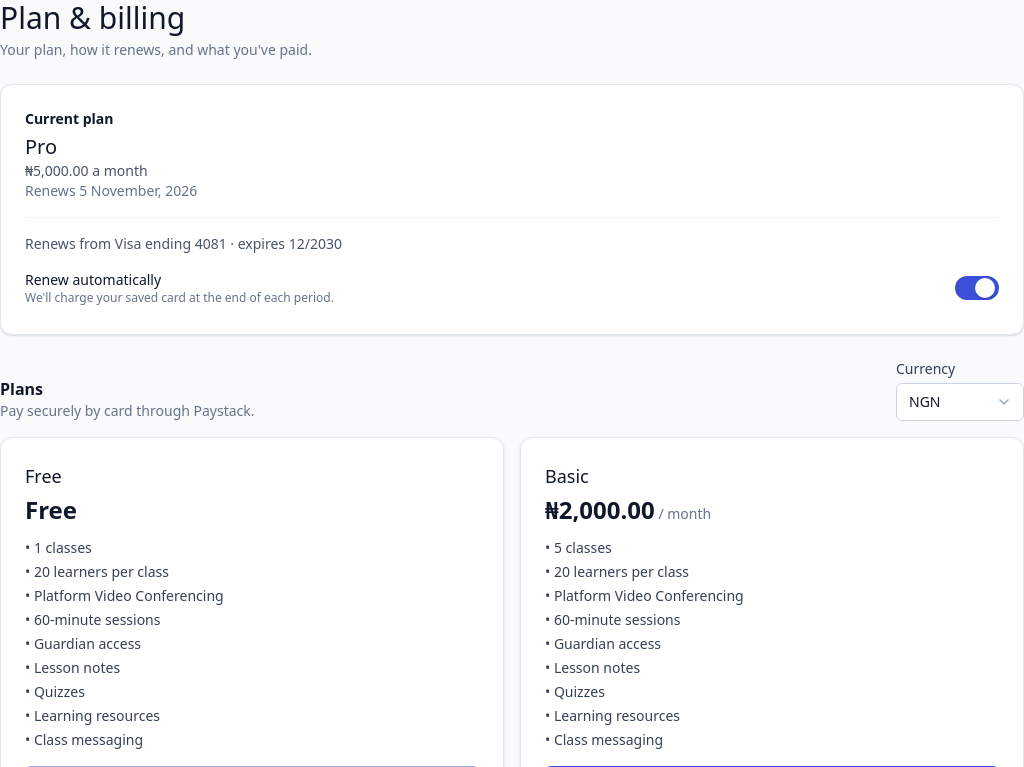
Test: PlanBillingPage › asks before turning auto-renewal off
The image size is (1024, 767).
Click the switch named "Renew automatically" at [977, 288], box [949,266,1005,310]
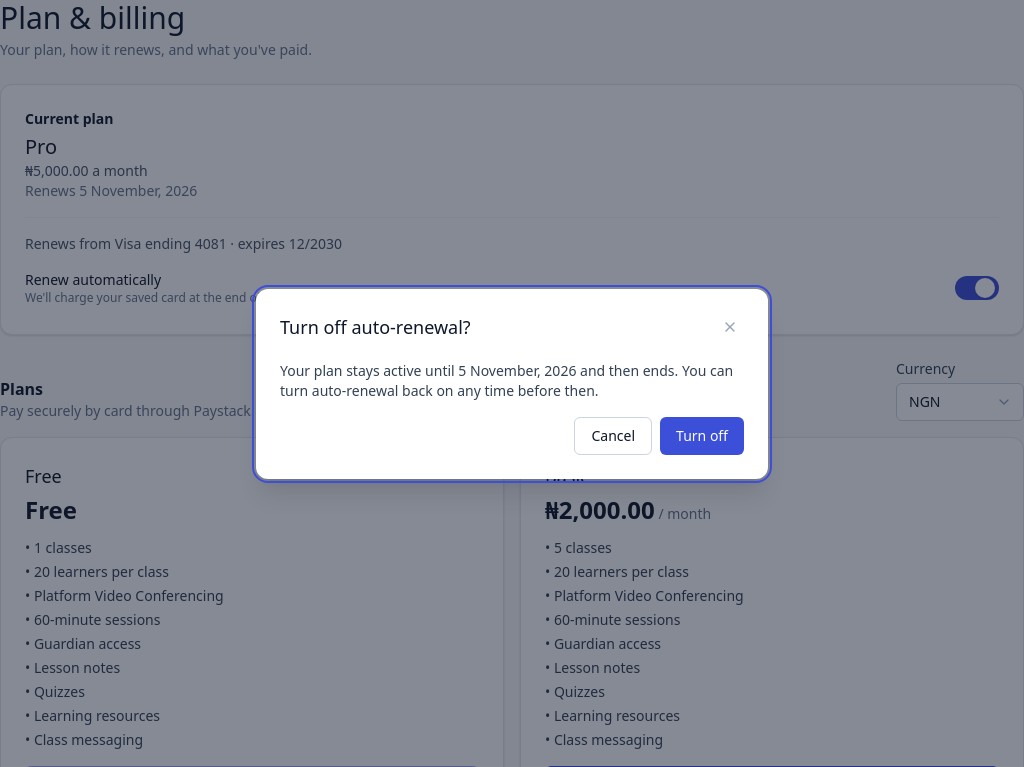
Click the button "Turn off" at [702, 436], box [660,417,744,455]
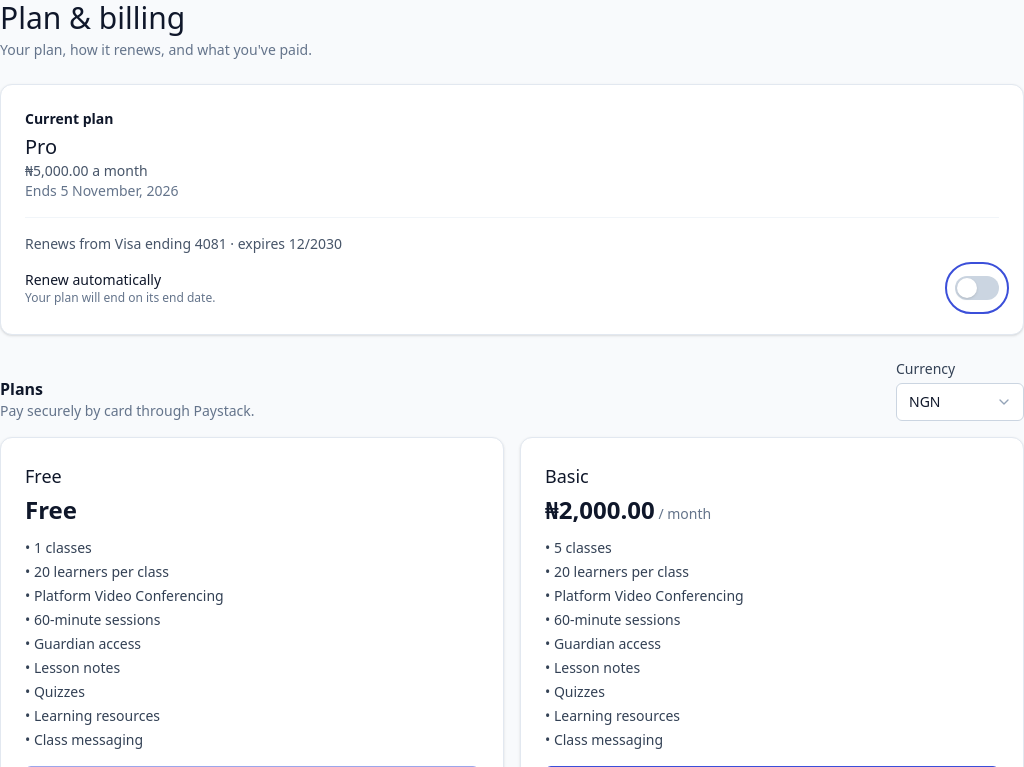
Now the text "Ends 5 November, 2026" is shown, box [25,181,178,201]
Now the dialog is gone
